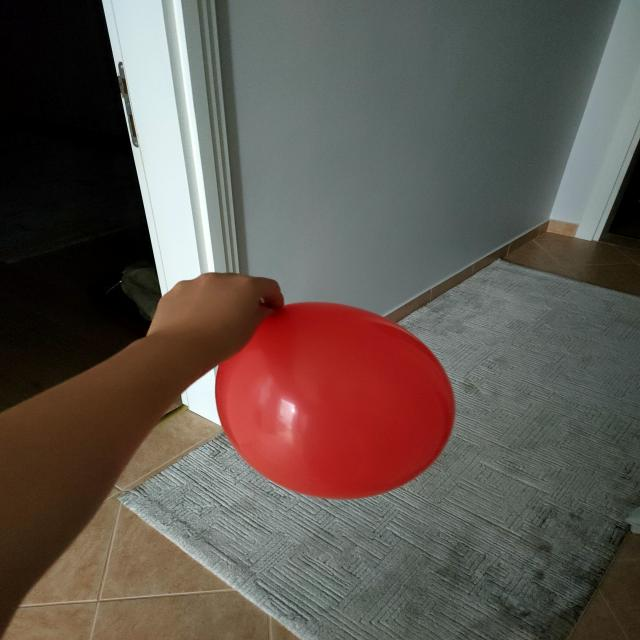red: (218, 304, 455, 500)
